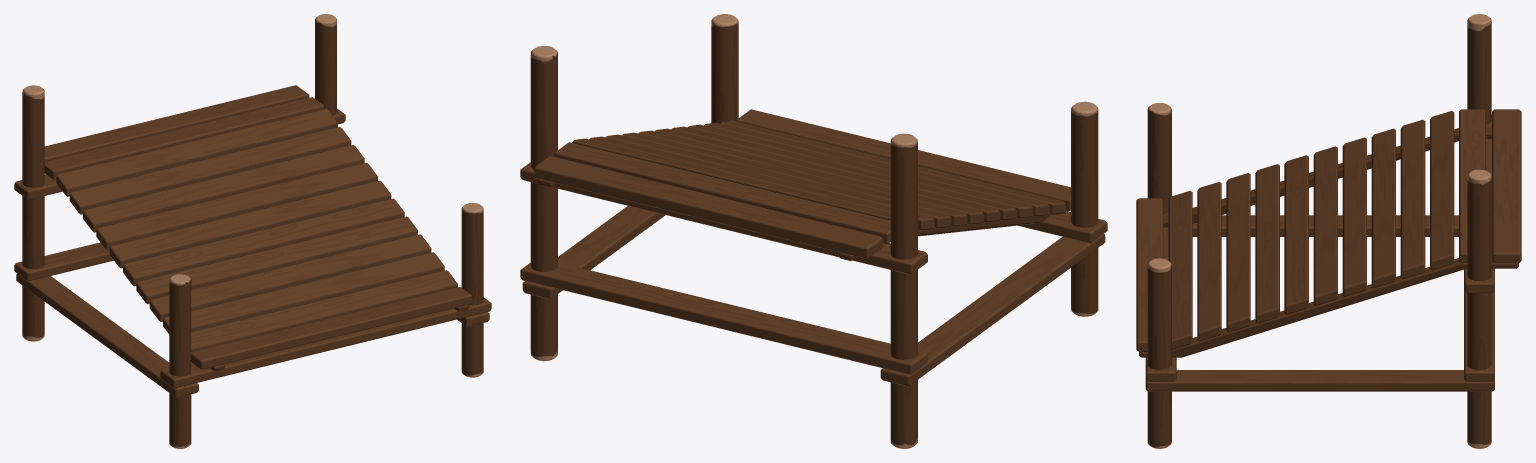
The model's file is M_Wide_Ramp.fbx.
The picture shows the model from 3 angles, left to right: view 1: azimuth 30°, elevation 25°; view 2: azimuth 150°, elevation 25°; view 3: azimuth 270°, elevation 25°; orthographic projection. The views are drawn at different scales.
Parts seen in each view (by area): view 1: M_Wide_Ramp; view 2: M_Wide_Ramp; view 3: M_Wide_Ramp.
Boxes of the visible parts, left/top/right/bottom form: M_Wide_Ramp: left=14, top=14, right=491, bottom=448; M_Wide_Ramp: left=520, top=14, right=1107, bottom=448; M_Wide_Ramp: left=1136, top=14, right=1521, bottom=448.
Size of the model in its own units: 820 by 611 by 786.
